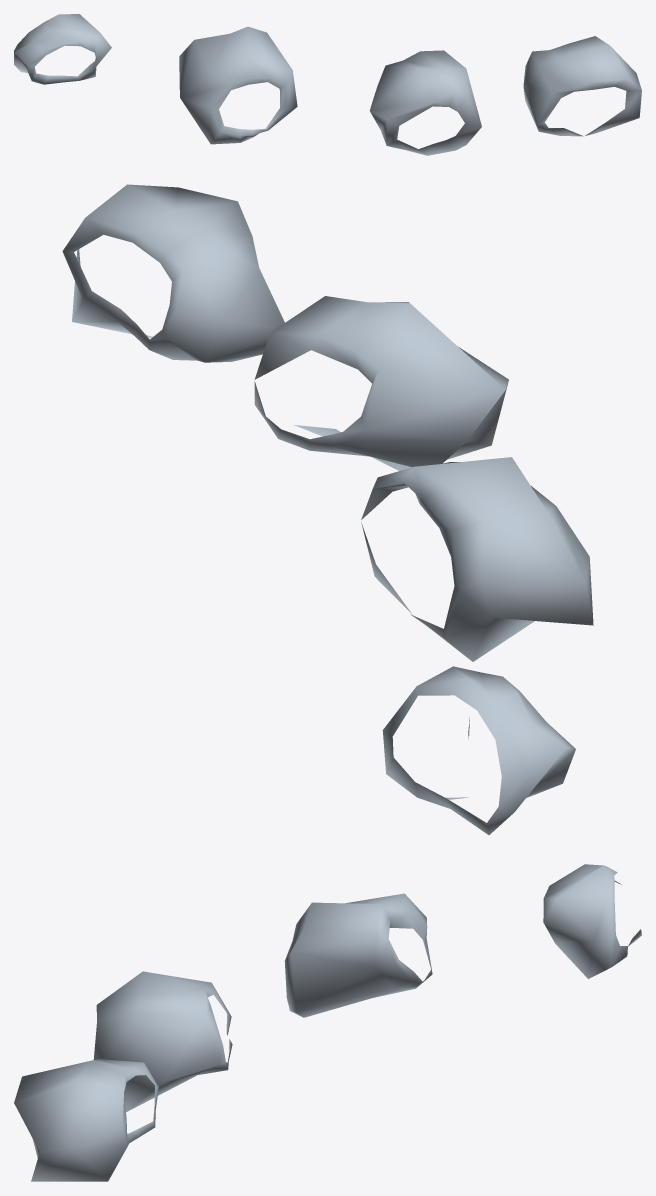
File: articular-capsules-of-distal-interphalangeal-joints-of-foot-r.glb
The picture shows the model from 3 angles, top to bottom: view 1: azimuth 30°, elevation 25°; view 2: azimuth 150°, elevation 25°; view 3: azimuth 270°, elevation 25°; orthographic projection. The views are drawn at different scales.
Parts seen in each view (by area): view 1: Articular capsules of distal interphalangeal joints of foot.; view 2: Articular capsules of distal interphalangeal joints of foot.; view 3: Articular capsules of distal interphalangeal joints of foot..
Boxes of the visible parts, box(x1,y1,x2,y2) form: Articular capsules of distal interphalangeal joints of foot.: box(14, 14, 641, 155); Articular capsules of distal interphalangeal joints of foot.: box(62, 184, 593, 834); Articular capsules of distal interphalangeal joints of foot.: box(14, 864, 641, 1181).
Bounding box in the file's own units: 0.0508 × 0.00995 × 0.046.
